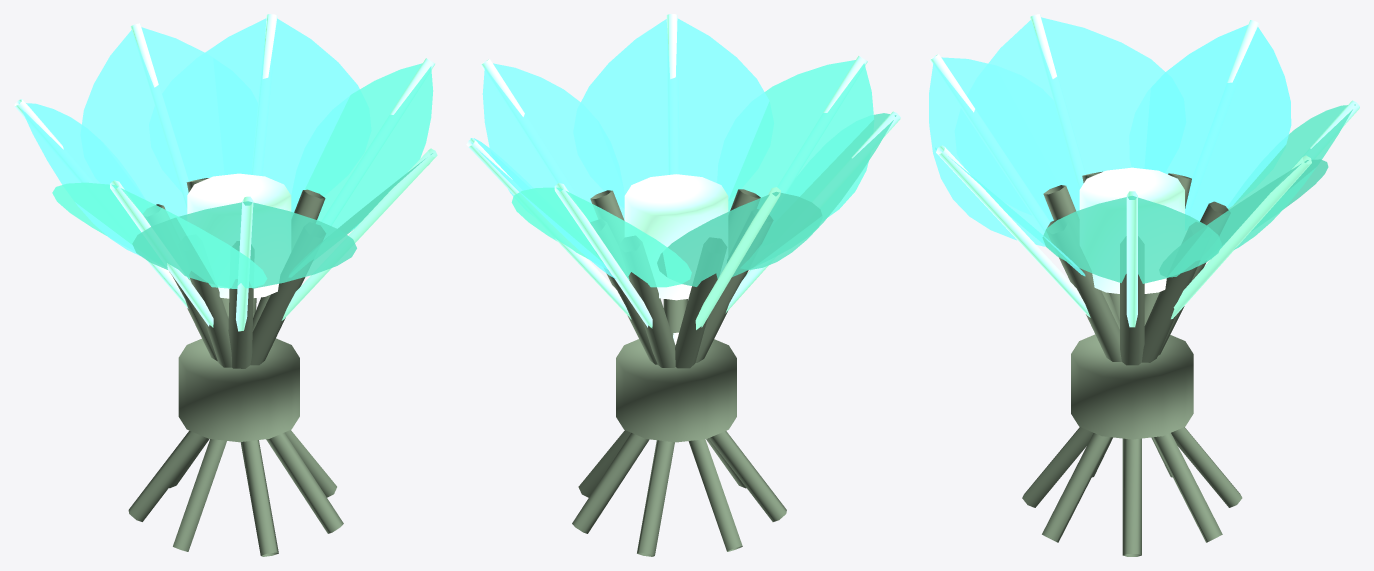
File: aquaglow-weakened.glb
3 renders of one model, left to right at view 1: azimuth 30°, elevation 25°; view 2: azimuth 150°, elevation 25°; view 3: azimuth 270°, elevation 25°, orthographic.
Parts seen in each view (by area): view 1: shell-material-5-0, shell-material-7-0, shell-material-6-0, shell-material-8-0; view 2: shell-material-5-0, shell-material-7-0, shell-material-6-0, shell-material-8-0; view 3: shell-material-5-0, shell-material-7-0, shell-material-6-0, shell-material-8-0.
Part boxes in pixels (x1,y1,x2,y2): shell-material-5-0: (18, 18, 433, 288); shell-material-7-0: (128, 178, 343, 556); shell-material-6-0: (14, 14, 437, 331); shell-material-8-0: (187, 173, 291, 298); shell-material-5-0: (470, 18, 896, 287); shell-material-7-0: (572, 189, 786, 556); shell-material-6-0: (466, 14, 900, 344); shell-material-8-0: (624, 174, 728, 300); shell-material-5-0: (929, 17, 1355, 283); shell-material-7-0: (1022, 171, 1242, 556); shell-material-6-0: (929, 14, 1359, 327); shell-material-8-0: (1079, 167, 1184, 293).
Size of the model in its own units: 0.9924 by 1.05 by 0.9834.
